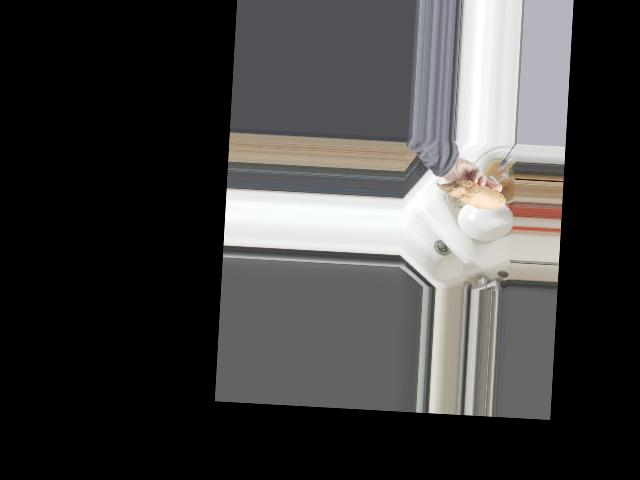sweet_potato: (435, 178, 506, 212)
